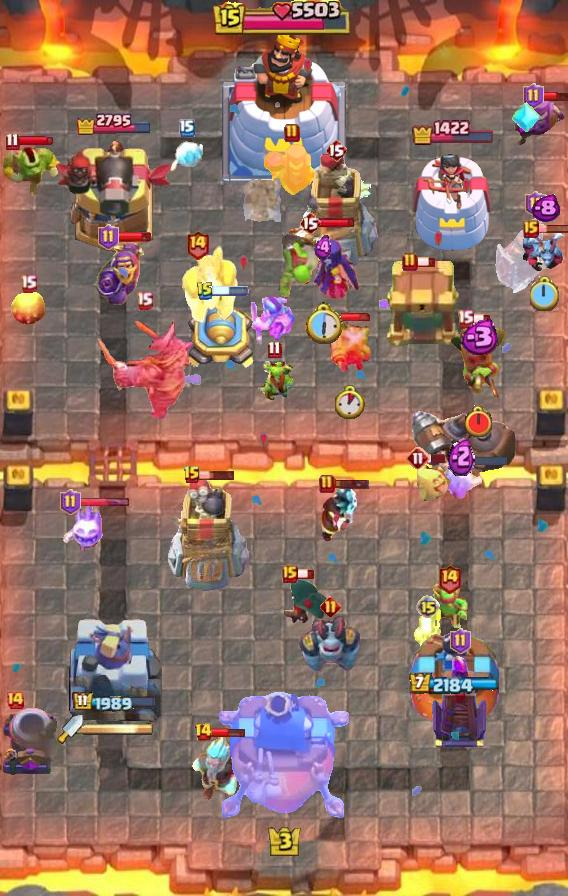bandit: (282, 577, 328, 625)
bar: (457, 455, 509, 467), (78, 497, 130, 508), (333, 478, 370, 490), (199, 469, 236, 481), (116, 231, 152, 243), (18, 135, 54, 147), (319, 217, 356, 228), (210, 727, 246, 738), (211, 286, 249, 296), (536, 223, 568, 234), (341, 312, 373, 322), (541, 91, 568, 102), (295, 568, 315, 580), (471, 313, 491, 325), (416, 256, 436, 268), (427, 453, 447, 464)
bar-level: (437, 563, 462, 594), (185, 229, 210, 260), (416, 595, 440, 619), (406, 446, 430, 470), (450, 628, 471, 654), (60, 489, 81, 515), (98, 224, 119, 250), (525, 191, 546, 217), (523, 83, 544, 109), (299, 211, 321, 235), (325, 138, 347, 162), (320, 596, 341, 617), (5, 690, 25, 710), (194, 722, 213, 742), (183, 465, 201, 485), (196, 281, 214, 301), (457, 309, 474, 328), (136, 291, 153, 310), (20, 274, 37, 293), (319, 474, 335, 494), (402, 252, 418, 272), (284, 123, 300, 143), (282, 565, 298, 583), (523, 220, 539, 238), (179, 119, 195, 137), (267, 340, 282, 359), (5, 132, 20, 151)
cannoneer-tower: (53, 138, 175, 256)
clock: (303, 302, 343, 345), (463, 405, 494, 439), (530, 276, 560, 311), (335, 385, 365, 419)
dagger-duchess-tower: (66, 611, 162, 731)
dagger-duchess-tower-bar: (83, 722, 153, 736)
dart-goblin: (448, 319, 508, 399)
dirt: (241, 176, 285, 222)
electro-wizard: (317, 484, 363, 544)
elixir: (456, 319, 500, 355), (448, 435, 475, 476), (531, 194, 560, 223), (314, 235, 333, 260)
firecracker: (327, 315, 373, 377)
goblin: (254, 360, 294, 402)
goblin-ball: (270, 234, 320, 300)
goblin-brawler: (0, 143, 60, 197)
heal-spirit: (415, 463, 451, 501)
ice-spirit: (166, 136, 208, 174)
ice-spirit-evolution: (61, 505, 109, 553), (436, 463, 486, 501)
ice-spirit-evolution-symbol: (512, 100, 540, 134)
ice-wizard: (189, 736, 241, 804)
king-tower: (222, 31, 346, 181), (219, 692, 349, 826)
king-tower-bar: (213, 0, 355, 38)
knight-evolution: (95, 241, 144, 306)
mega-minion: (179, 245, 241, 325), (297, 615, 363, 675)
minion: (523, 227, 567, 273)
mortar-evolution: (0, 708, 64, 778)
mother-witch: (512, 92, 568, 150), (262, 143, 322, 195)
phoenix-egg: (11, 288, 45, 326)
queen-tower: (410, 145, 496, 256), (407, 633, 499, 731)
skeleton: (414, 608, 442, 652)
spear-goblin: (248, 296, 296, 348), (428, 582, 470, 628)
tower-bar: (411, 119, 496, 146), (408, 673, 498, 696), (72, 691, 157, 714), (75, 111, 153, 135)
witch: (285, 226, 361, 300)
